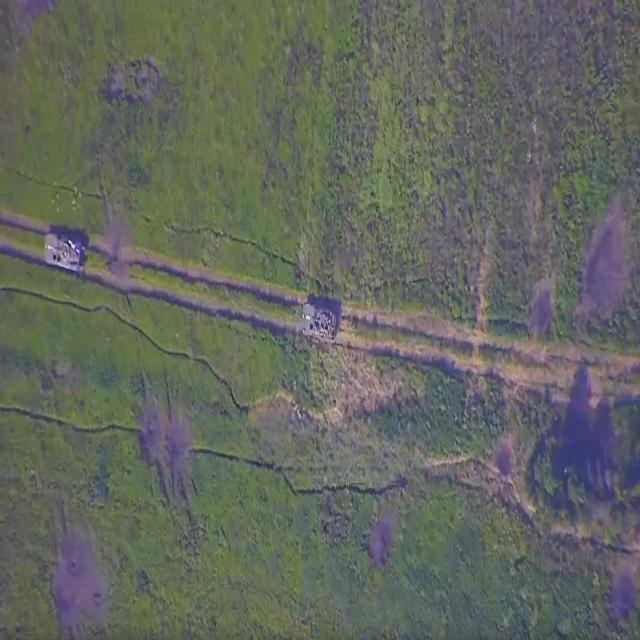AIFV: (40, 230, 88, 277), (300, 299, 341, 347)
